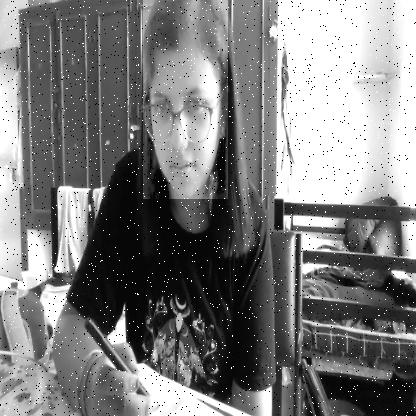Normal: (143, 0, 228, 199)
